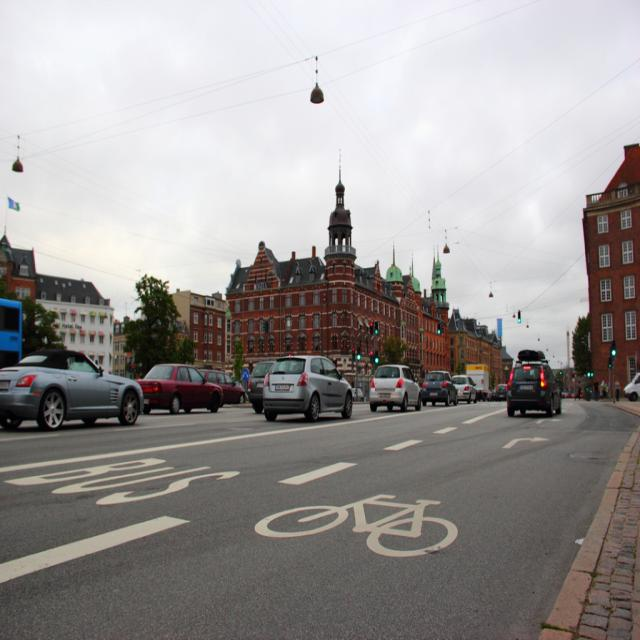Passenger Car: (2, 348, 143, 440), (263, 356, 353, 425), (138, 363, 225, 418), (503, 364, 563, 421), (368, 365, 421, 416), (420, 370, 459, 407), (454, 369, 480, 406), (624, 370, 640, 400)
